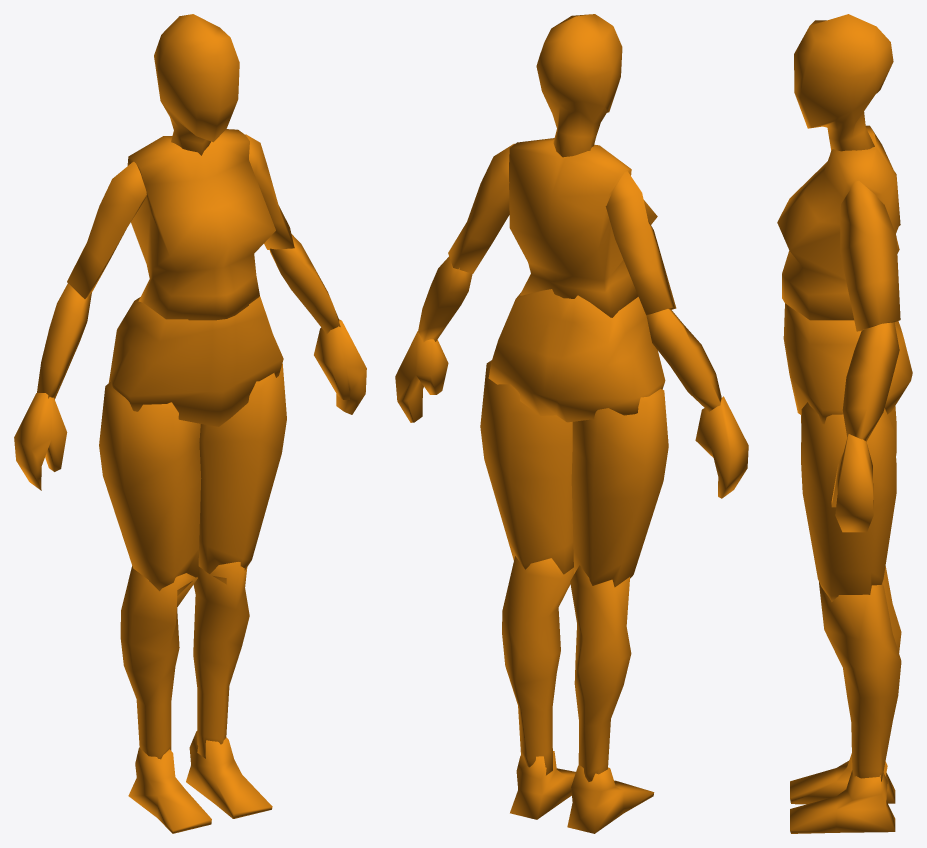
File: generic_character.fbx
3 views of the same model, side by side, from view 1: azimuth 30°, elevation 25°; view 2: azimuth 150°, elevation 25°; view 3: azimuth 270°, elevation 25° (orthographic).
Visible parts, largest first — view 1: boneco; view 2: boneco; view 3: boneco.
Boxes of the visible parts, x1,y1,x2,y2 form: boneco: (14,14,366,833); boneco: (395,14,748,833); boneco: (777,14,912,833).
Bounding box in the file's own units: 165 × 372 × 57.35.
